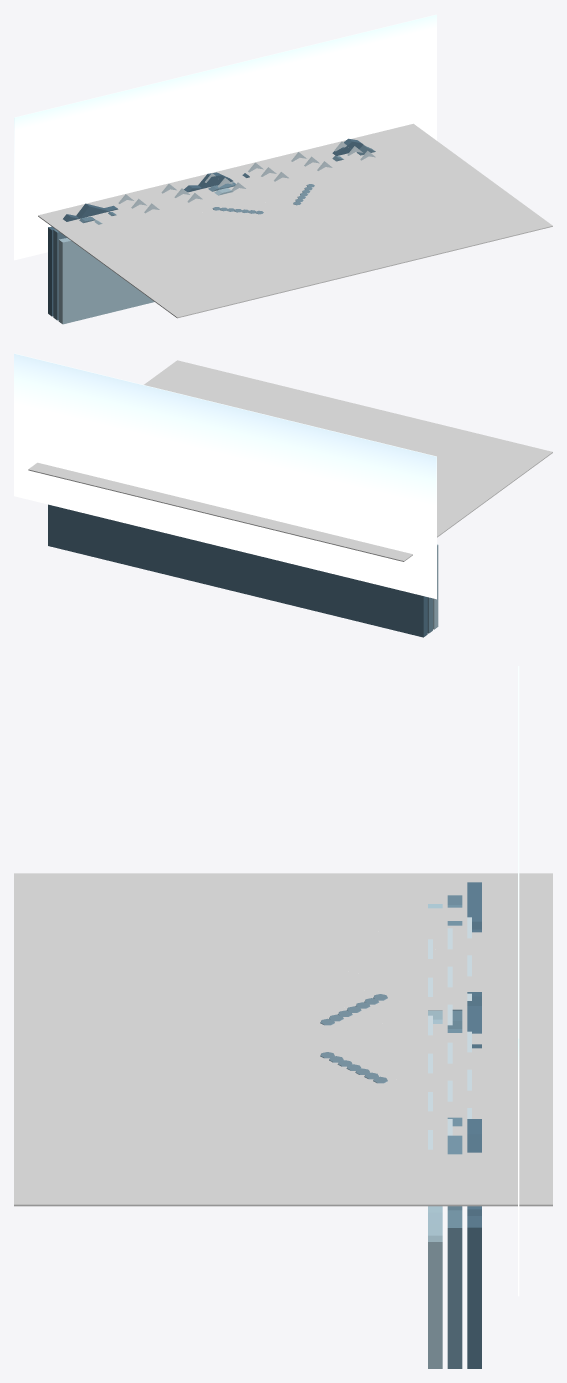
The model's file is winterdepot.glb.
3 renders of one model, top to bottom at view 1: azimuth 30°, elevation 25°; view 2: azimuth 150°, elevation 25°; view 3: azimuth 270°, elevation 25°, orthographic. The views are drawn at different scales.
Visible parts, largest first — view 1: Ground contact / transparent shadow receiver.064, Sky gradient / editable material.064, World / terrain and architecture.027; view 2: Sky gradient / editable material.064, Ground contact / transparent shadow receiver.064, World / terrain and architecture.027; view 3: Ground contact / transparent shadow receiver.064, World / terrain and architecture.027, Sky gradient / editable material.064, Foreground / edge details.025.
Boxes of the visible parts, box(x1,y1,x2,y2) form: Ground contact / transparent shadow receiver.064: box(38, 123, 552, 318); Sky gradient / editable material.064: box(14, 14, 436, 260); World / terrain and architecture.027: box(48, 138, 375, 324); Sky gradient / editable material.064: box(14, 353, 436, 599); Ground contact / transparent shadow receiver.064: box(28, 360, 552, 561); World / terrain and architecture.027: box(48, 504, 438, 637); Ground contact / transparent shadow receiver.064: box(14, 873, 552, 1206); World / terrain and architecture.027: box(428, 882, 481, 1368); Sky gradient / editable material.064: box(518, 666, 519, 1296); Foreground / edge details.025: box(320, 994, 387, 1083).
Size of the model in its own units: 180 by 79 by 110.
